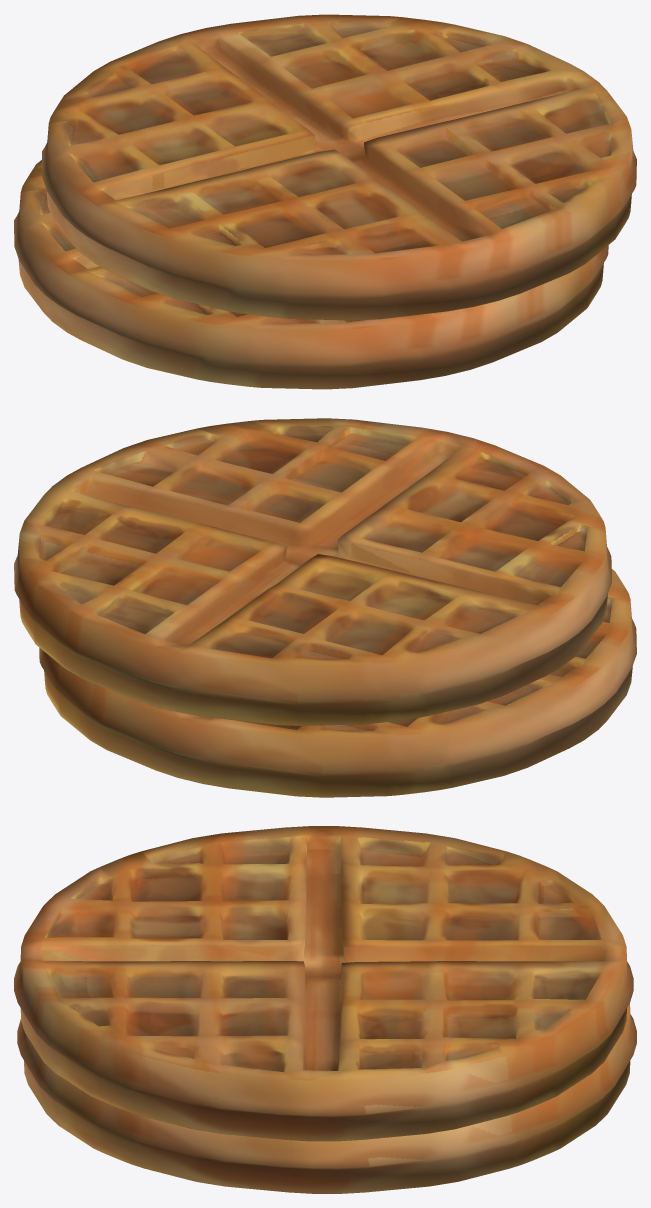
Rendered from Waffle.fbx.
3 renders of one model, top to bottom at view 1: azimuth 30°, elevation 25°; view 2: azimuth 150°, elevation 25°; view 3: azimuth 270°, elevation 25°, orthographic. The views are drawn at different scales.
Parts seen in each view (by area): view 1: Plane, Plane.001; view 2: Plane, Plane.001; view 3: Plane, Plane.001.
Part boxes in pixels (x1,y1,x2,y2): Plane: [42, 14, 636, 320]; Plane.001: [14, 160, 608, 389]; Plane: [14, 418, 611, 725]; Plane.001: [39, 569, 636, 797]; Plane: [14, 826, 633, 1141]; Plane.001: [17, 1003, 636, 1193].
Bounding box in the file's own units: 160 × 34.88 × 153.
